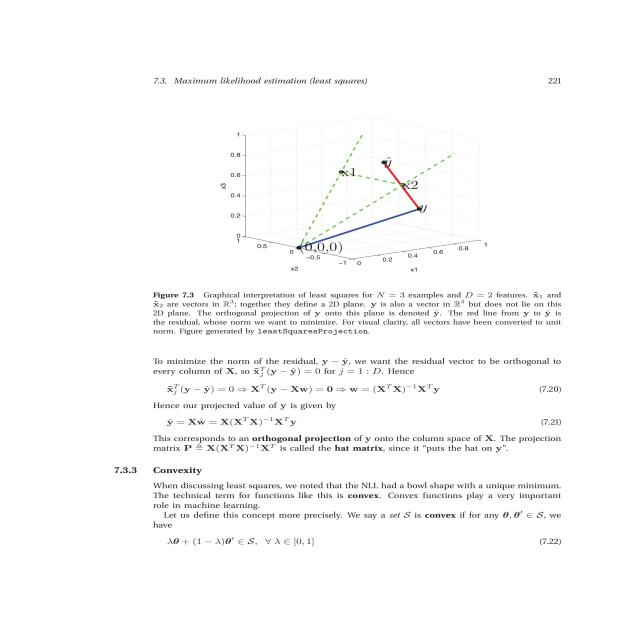diagram: (132, 70, 614, 345)
